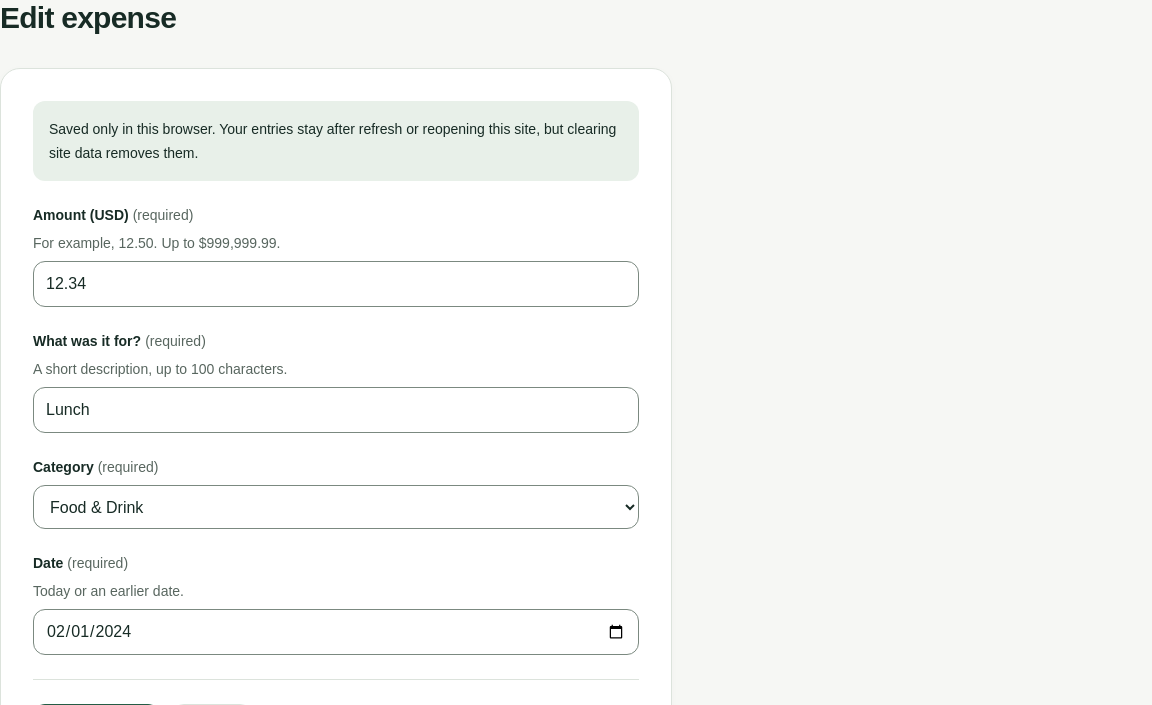
Test case: editing loads saved values and persists changes under the same id
The width and height of the screenshot is (1152, 705).
Replace the text in the field labelled "Amount (USD)(required)" with "25.50" at [336, 284], box [33,261,639,307]
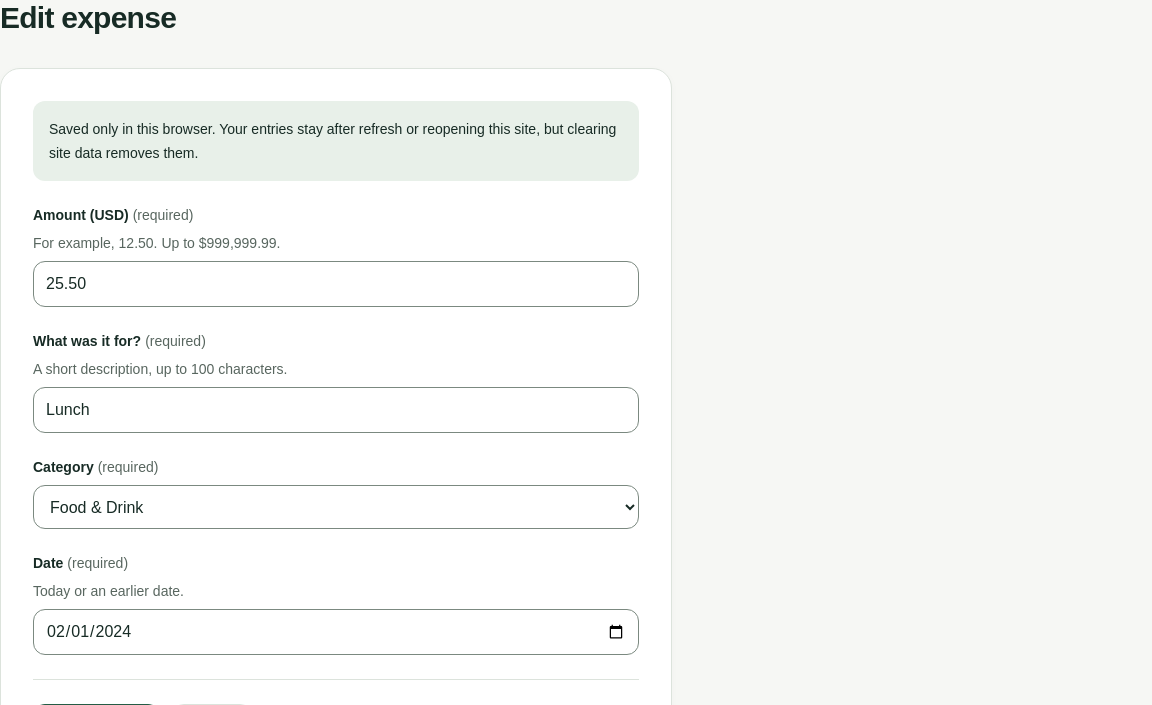
Replace the text in the field labelled "What was it for?(required)" with "Updated lunch" at [336, 410], box [33,387,639,433]
(page scrolled)
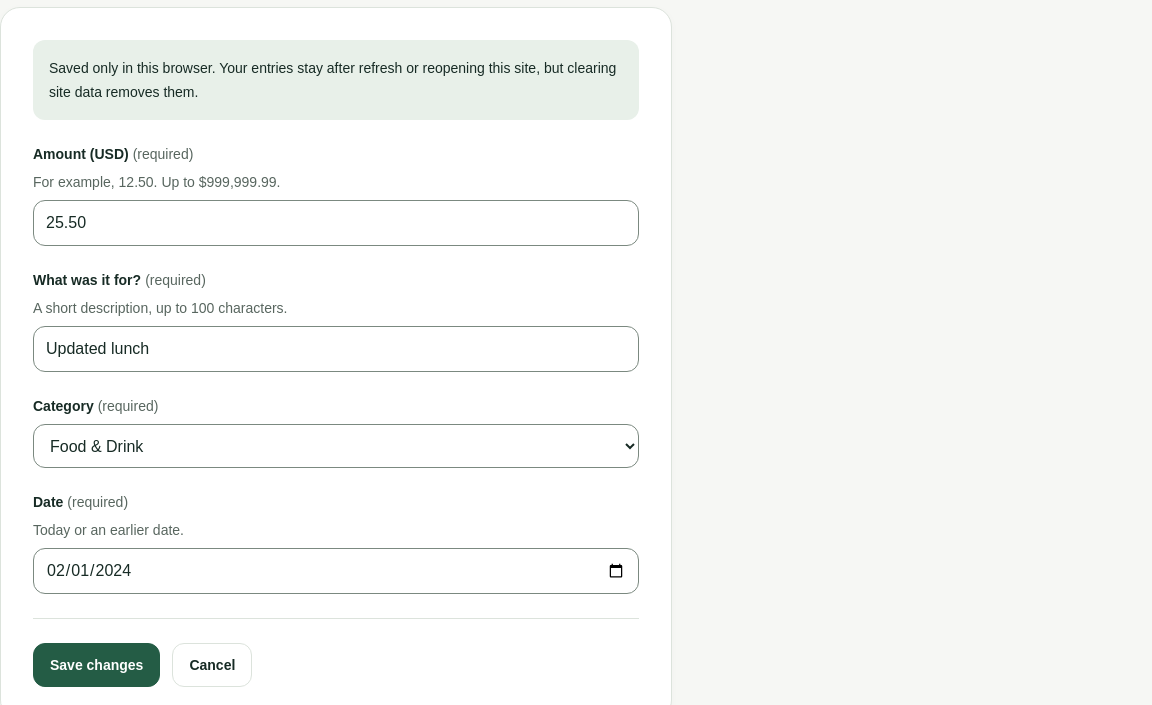
Submit the form, box [33,40,639,687]
(page scrolled)
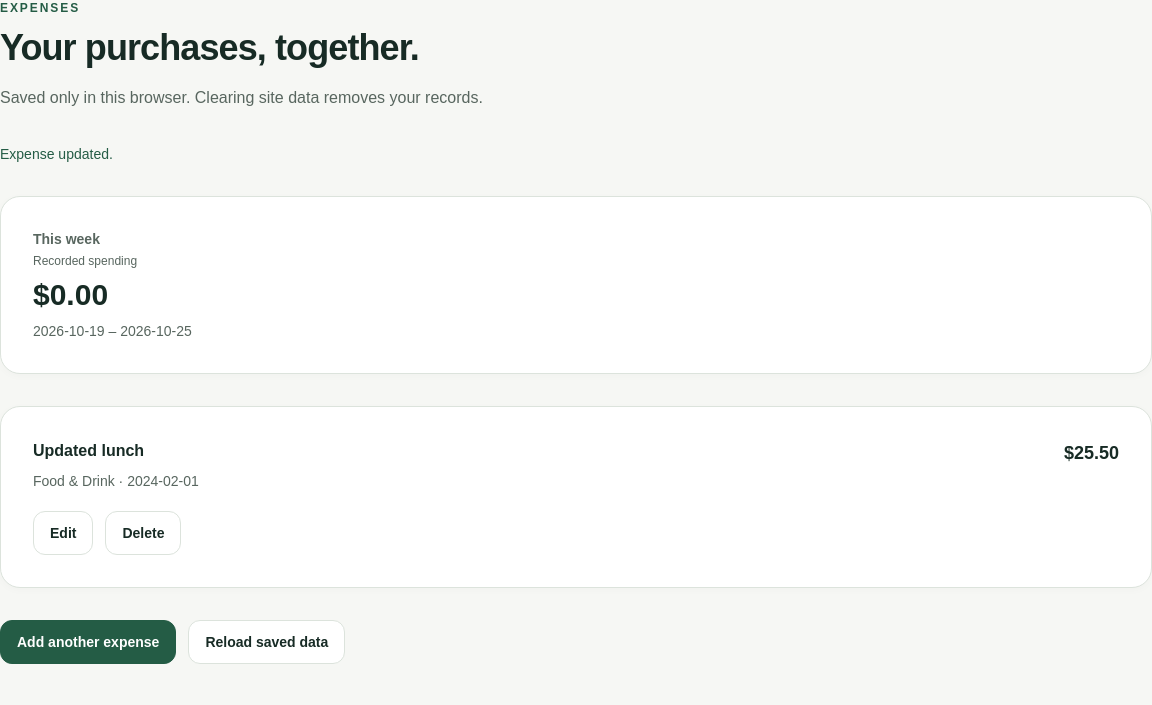
Expected: the text "Expense updated" is shown, [0,146,113,162]
Expected: the text "Updated lunch" is shown, [33,442,144,459]
